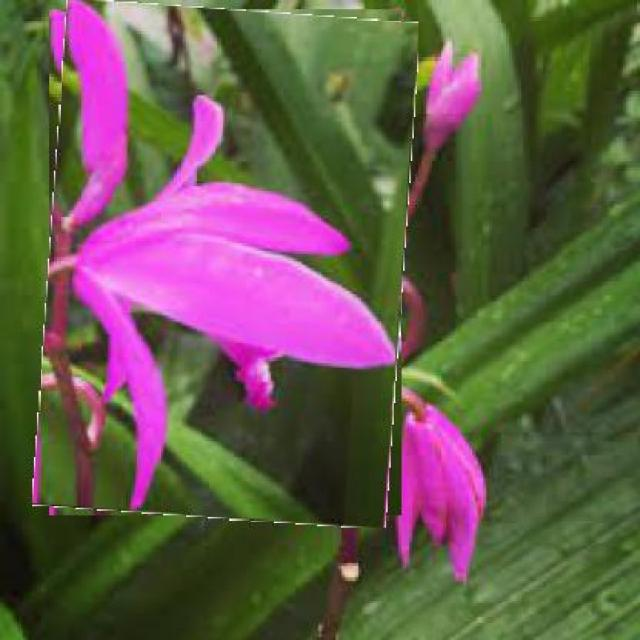Flower: (41, 3, 412, 523)
